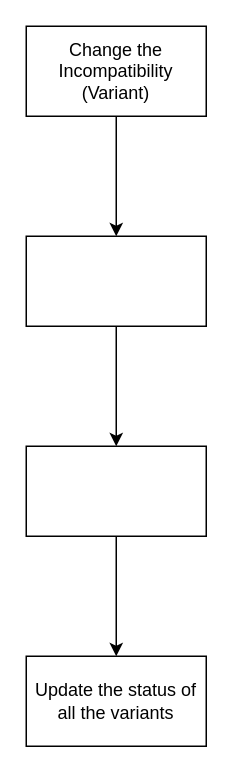
Image size: 233x773. Some labels were removed from this diagram. Each missing label, with the box of its shape:
Get the list of variants which referenced by the incoming variant id: (25, 445, 206, 536)
Get the Variant ID from the Payload: (25, 235, 206, 326)
